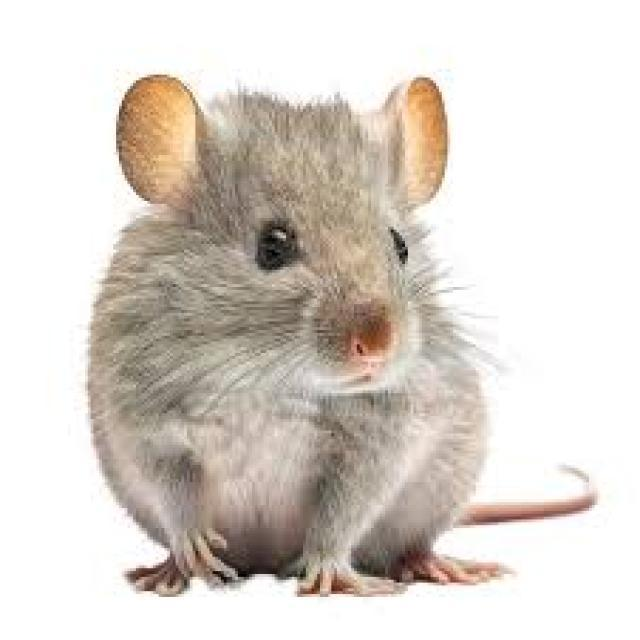Rat: (96, 41, 499, 610)
